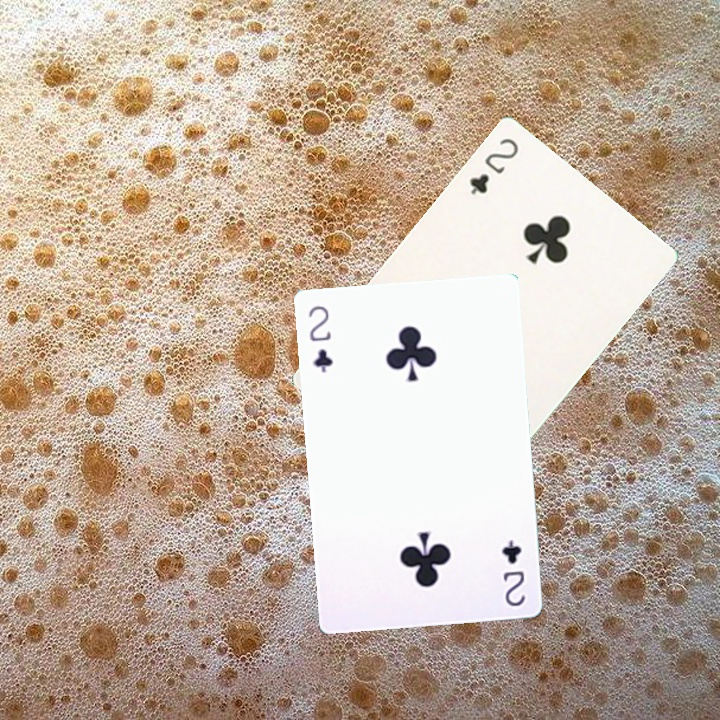2c: (465, 133, 522, 198), (304, 302, 335, 376), (497, 535, 528, 609)
